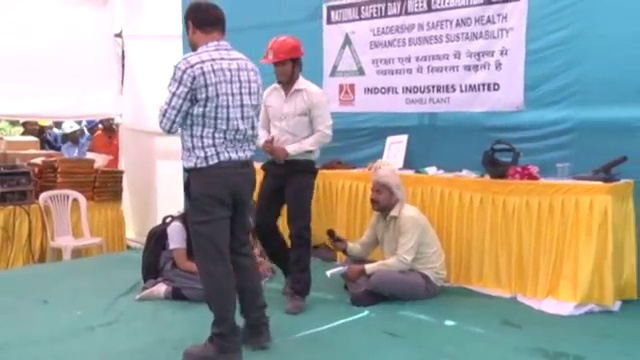helmet: (267, 33, 305, 66), (82, 152, 115, 168), (59, 122, 81, 136), (85, 120, 97, 130)
helmet_off: (175, 2, 230, 52), (364, 167, 403, 221), (20, 120, 41, 137), (99, 115, 117, 133), (85, 120, 101, 137)
helmet_on: (264, 33, 307, 88), (60, 122, 82, 145), (36, 120, 52, 136)
person: (154, 0, 270, 358), (254, 33, 332, 315), (333, 161, 449, 309), (134, 213, 206, 308), (91, 117, 119, 168), (60, 123, 86, 157), (36, 121, 61, 150)
